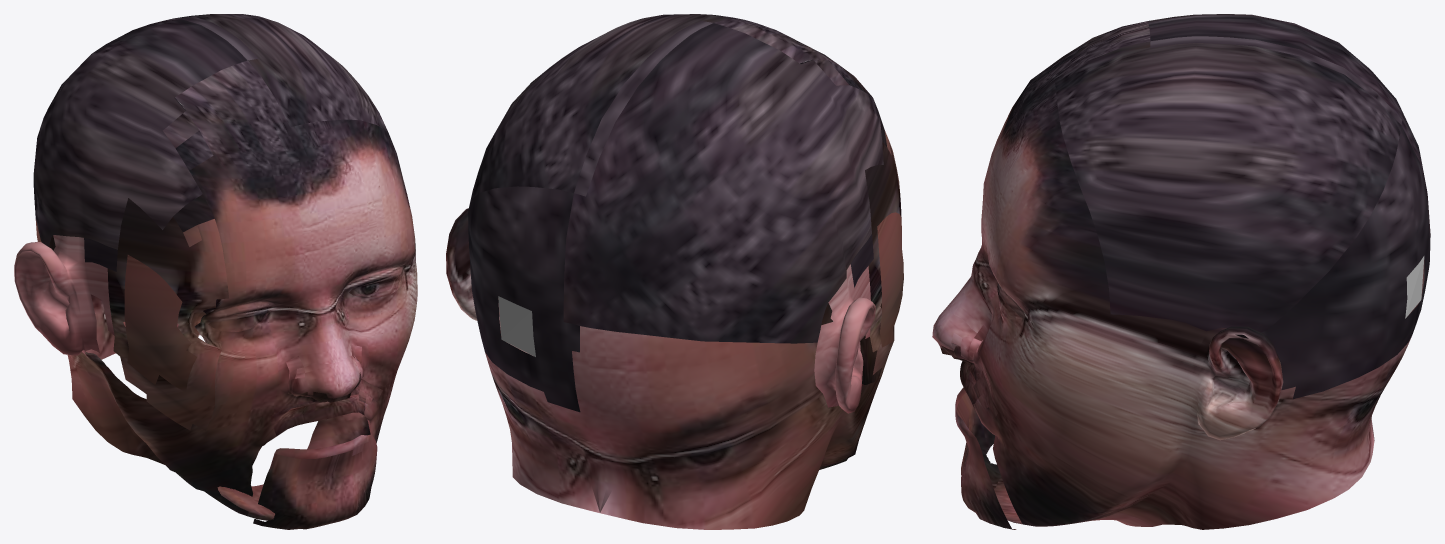
The model's file is sauldenovo.dae.
3 renders of one model, left to right at view 1: azimuth 30°, elevation 25°; view 2: azimuth 150°, elevation 25°; view 3: azimuth 270°, elevation 25°, orthographic. The views are drawn at different scales.
Parts seen in each view (by area): view 1: object0, object0_001; view 2: object0; view 3: object0, object0_001.
Boxes of the visible parts, x1,y1,x2,y2 form: object0: [14, 14, 417, 520]; object0_001: [253, 434, 377, 529]; object0: [446, 14, 903, 529]; object0: [932, 14, 1430, 529]; object0_001: [955, 387, 1016, 529].
Bounding box in the file's own units: 5.83 × 6.23 × 6.51.
1 material, 1 textured.
